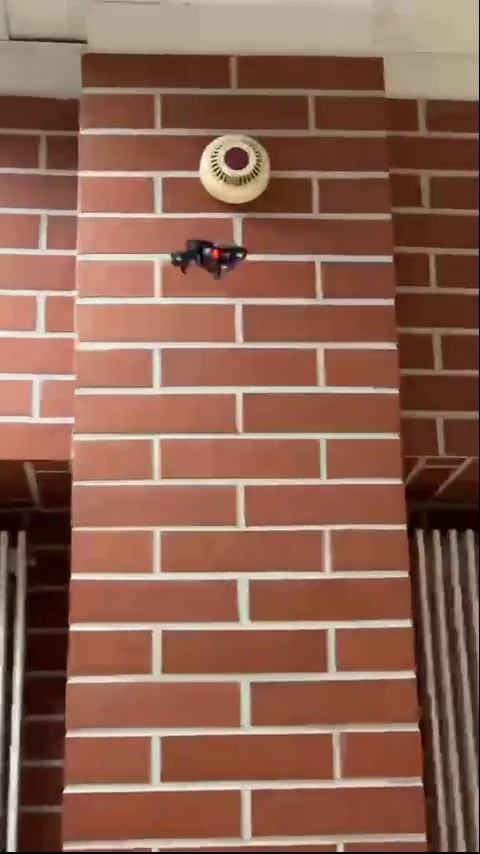drone: (167, 239, 250, 280)
